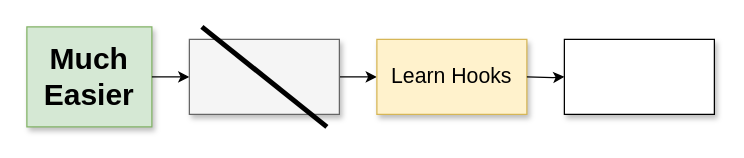
The diagram is 744 pixels wide and 158 high, and some of its shapes have lost their labels. The centre of each missing label's shape, as x and y in pixels:
"Learn Class Components" belongs at (x=265, y=78).
"Learn Redux" belongs at (x=640, y=78).
